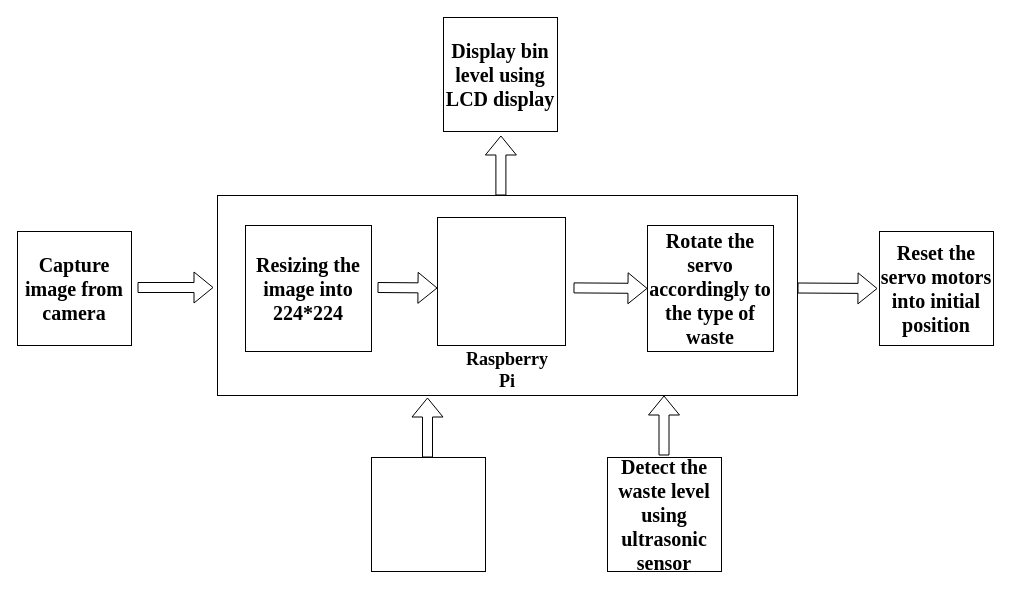
This 1011x592 diagram has some shape labels left out. The shapes that lost their labels are listed below. From the top down, each one's centre as x and y in pixels, then its label:
(501,281): Waste detection using VGG-16
(428,514): Detect the waste using IR sensor
